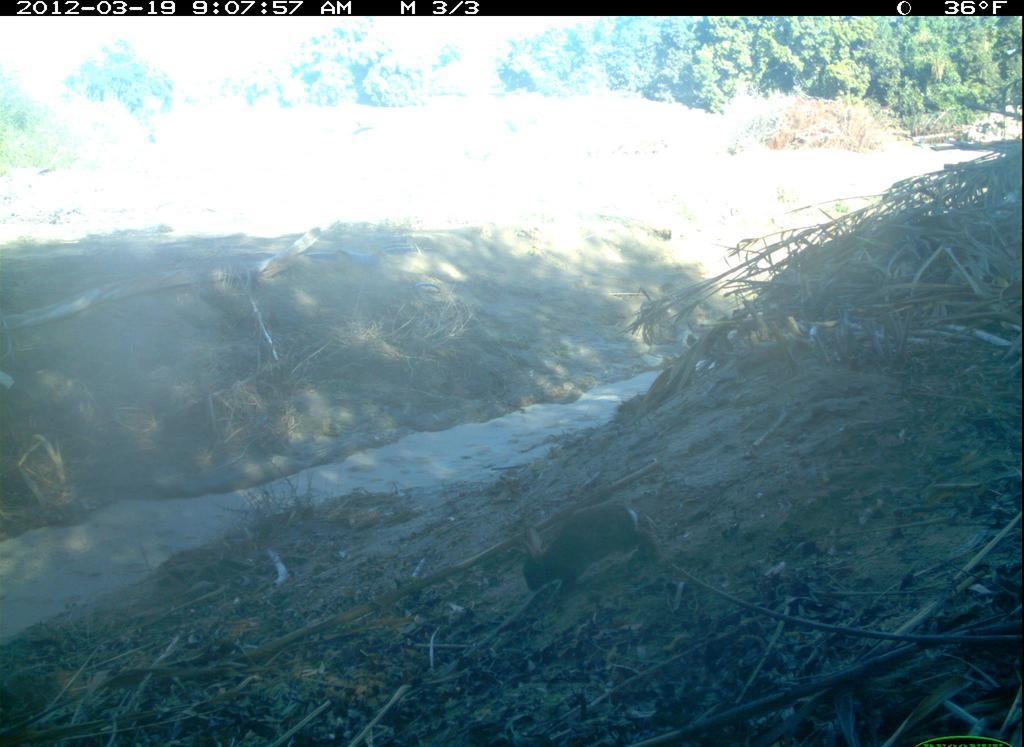rabbit: (507, 495, 670, 609)
